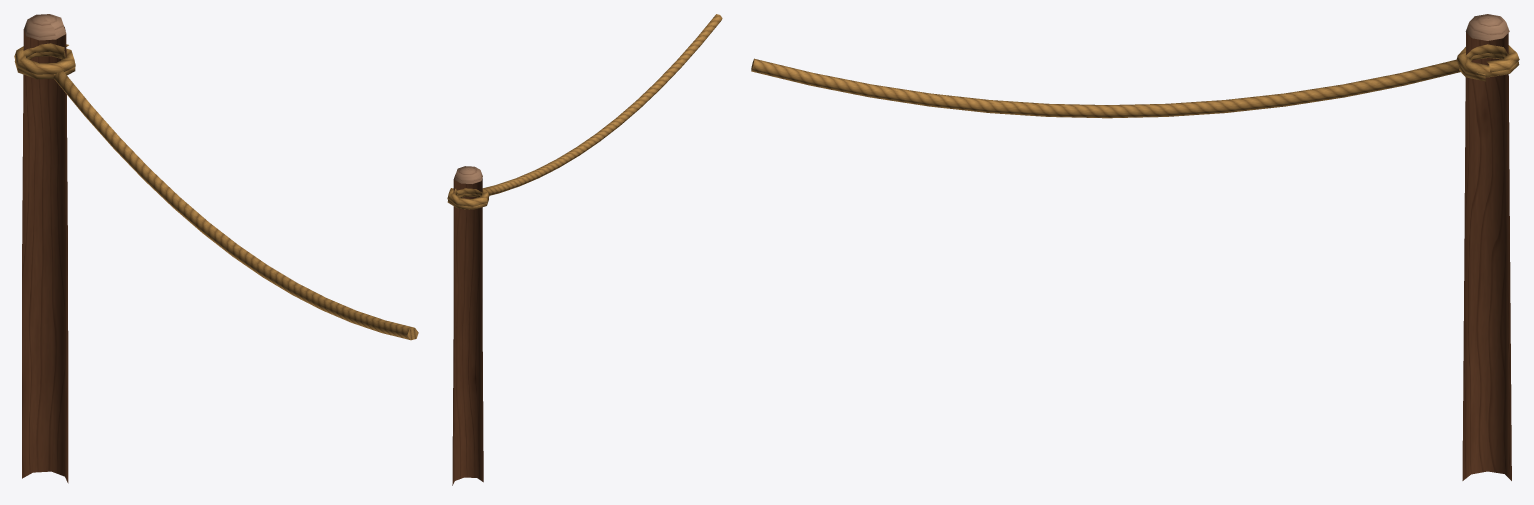
Rendered from rope_rail.glb.
The picture shows the model from 3 angles, left to right: view 1: azimuth 30°, elevation 25°; view 2: azimuth 150°, elevation 25°; view 3: azimuth 270°, elevation 25°; orthographic projection. The views are drawn at different scales.
Parts seen in each view (by area): view 1: rail; view 2: rail; view 3: rail.
Part boxes in pixels (<box>): rail: <box>14,14,418,483</box>; rail: <box>447,14,722,485</box>; rail: <box>751,14,1519,480</box>.
Bounding box in the file's own units: 0.1732 × 1.39 × 2.09.
Materials: 2 (2 with a texture image).
